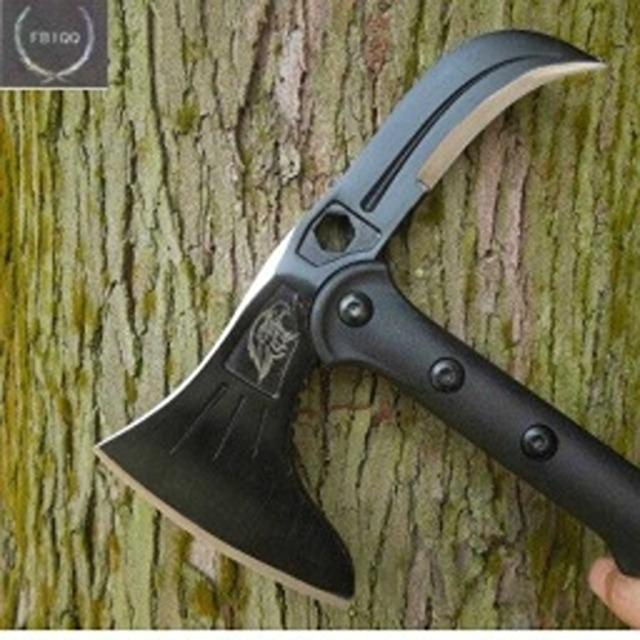ax: (83, 18, 640, 616)
